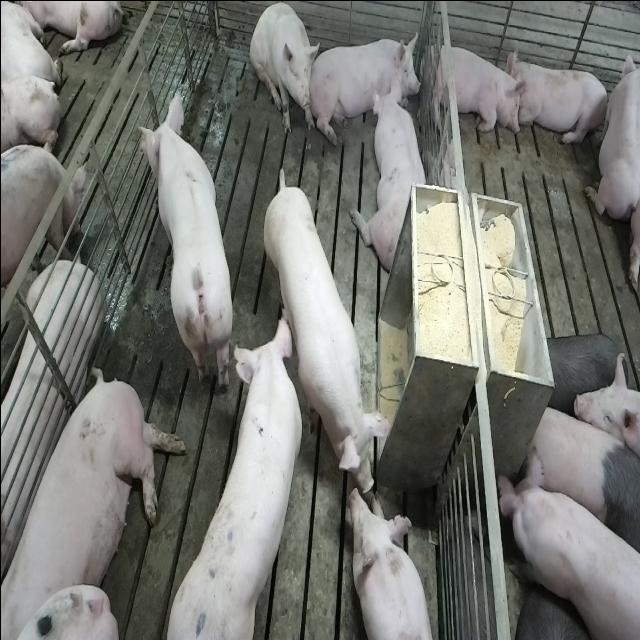Lateral_lying: (3, 368, 186, 640), (0, 261, 103, 578)
Sitting: (249, 3, 318, 138)
Standing: (159, 312, 305, 636), (262, 159, 388, 487), (136, 94, 235, 396), (497, 454, 638, 640), (522, 395, 638, 573), (0, 145, 86, 356)
Sternal_lying: (356, 80, 429, 274), (349, 484, 438, 638), (313, 28, 420, 136), (425, 38, 525, 140), (510, 52, 610, 150), (584, 41, 637, 223)
